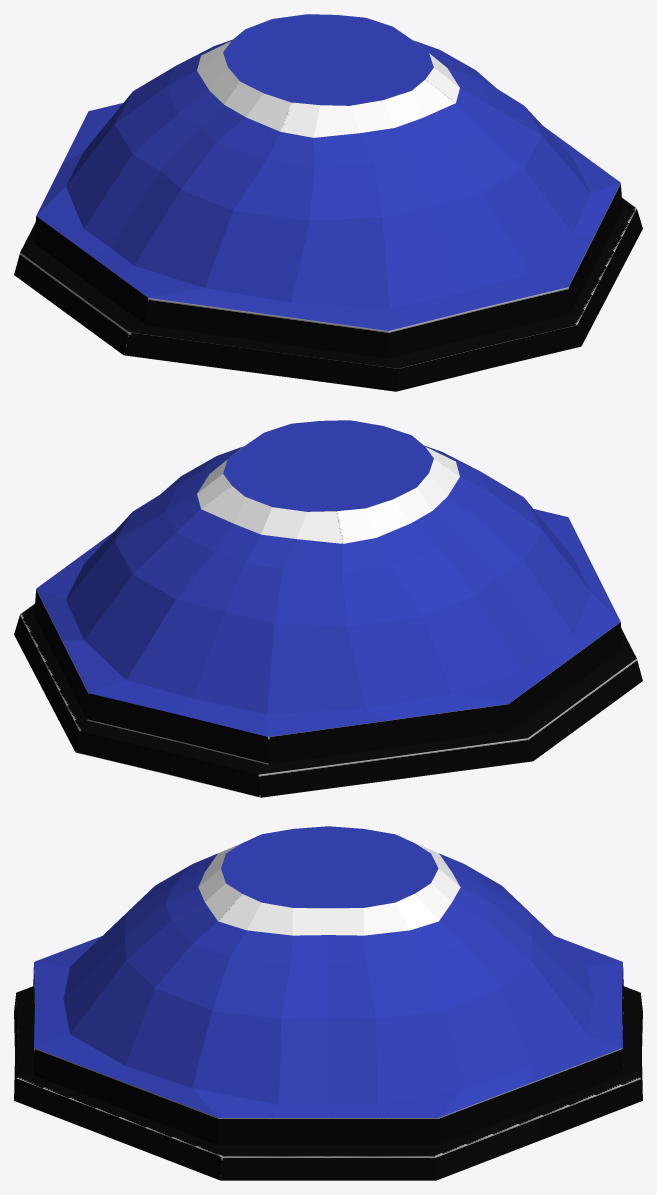
Rendered from note_four.fbx.
The picture shows the model from 3 angles, top to bottom: view 1: azimuth 30°, elevation 25°; view 2: azimuth 150°, elevation 25°; view 3: azimuth 270°, elevation 25°; orthographic projection.
Visible parts, largest first — view 1: pasted__polySurface1; view 2: pasted__polySurface1; view 3: pasted__polySurface1.
Boxes of the visible parts, <box> form: pasted__polySurface1: <box>14,14,642,391</box>; pasted__polySurface1: <box>14,420,642,797</box>; pasted__polySurface1: <box>14,826,642,1180</box>.
Bounding box in the file's own units: 1.05 × 0.3718 × 1.13.
Materials: 1 (1 with a texture image).
